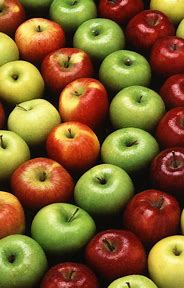inorganic: (117, 231, 184, 284), (38, 118, 102, 167), (79, 162, 139, 213), (14, 154, 76, 202), (32, 204, 99, 248), (83, 225, 144, 272), (7, 98, 63, 144), (0, 129, 39, 190), (162, 76, 184, 184), (0, 234, 46, 285), (96, 46, 151, 88), (106, 125, 157, 169), (125, 186, 171, 233), (74, 17, 131, 54), (114, 81, 157, 130), (39, 46, 89, 82), (16, 13, 62, 52), (62, 79, 103, 120), (2, 62, 50, 96), (124, 14, 171, 48), (0, 189, 29, 241), (47, 254, 93, 286), (151, 35, 184, 71), (1, 30, 26, 74), (48, 2, 100, 23)
